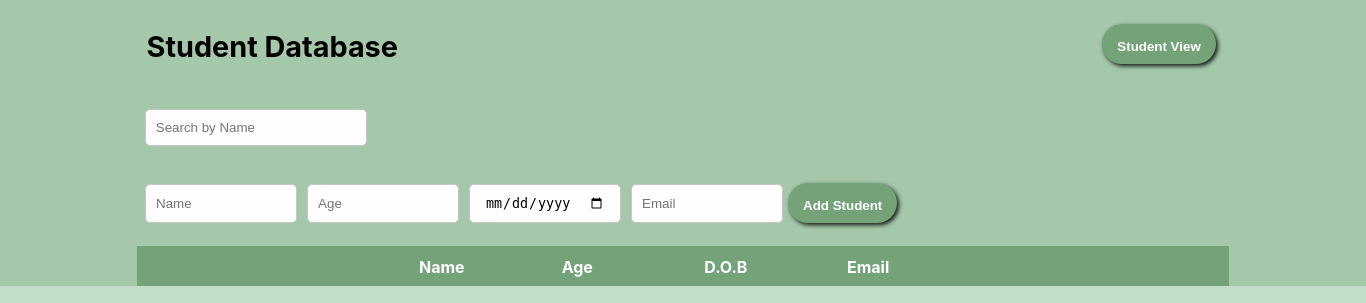
Renders elements based on admin state
The image size is (1366, 303).
Expected: the field with placeholder "Name" is shown, left=145, top=184, right=297, bottom=223
Expected: the number field with placeholder "Age" is shown, left=307, top=184, right=459, bottom=223
// Click the Admin View button to toggle admin state
Click the button "Student View": (1159, 44) left=1102, top=24, right=1216, bottom=64
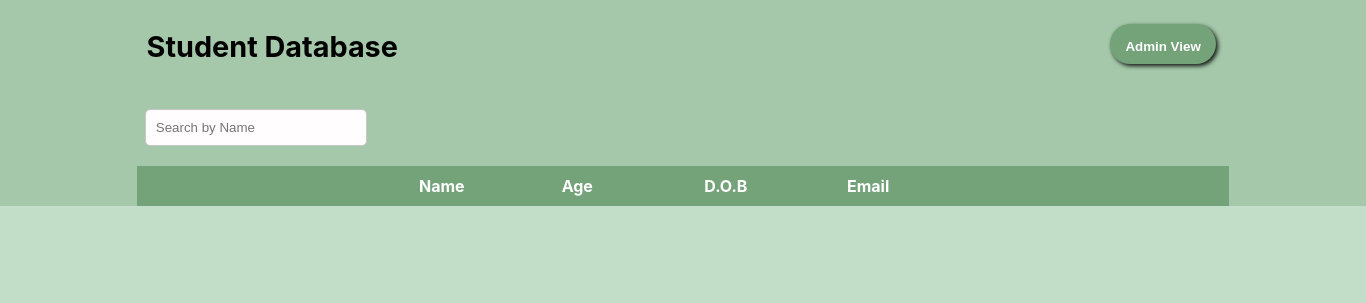
Expected: the field with placeholder "Date of Birth" is not shown
Expected: the button "Admin View" is shown, left=1110, top=24, right=1216, bottom=64
